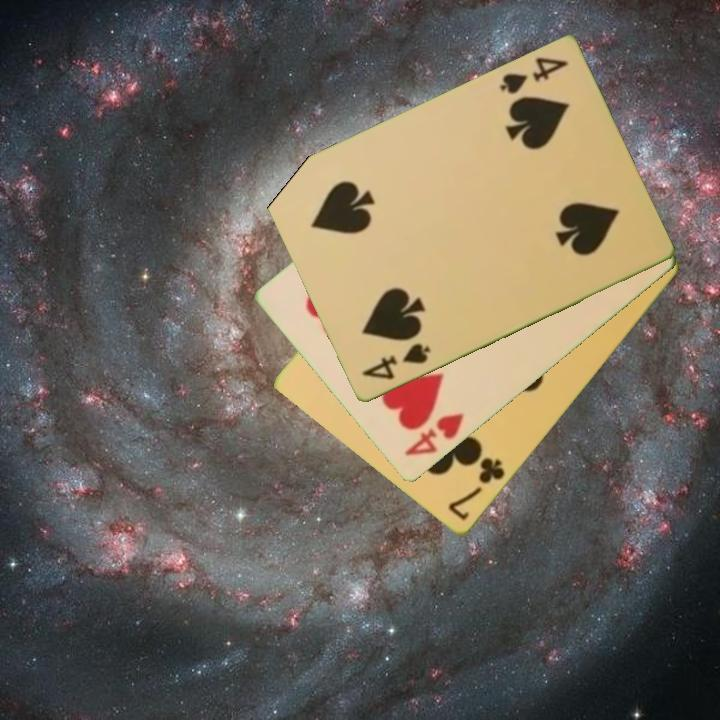4h: (400, 410, 467, 460)
4s: (496, 54, 571, 98), (358, 340, 434, 383)
7c: (444, 454, 508, 524)
